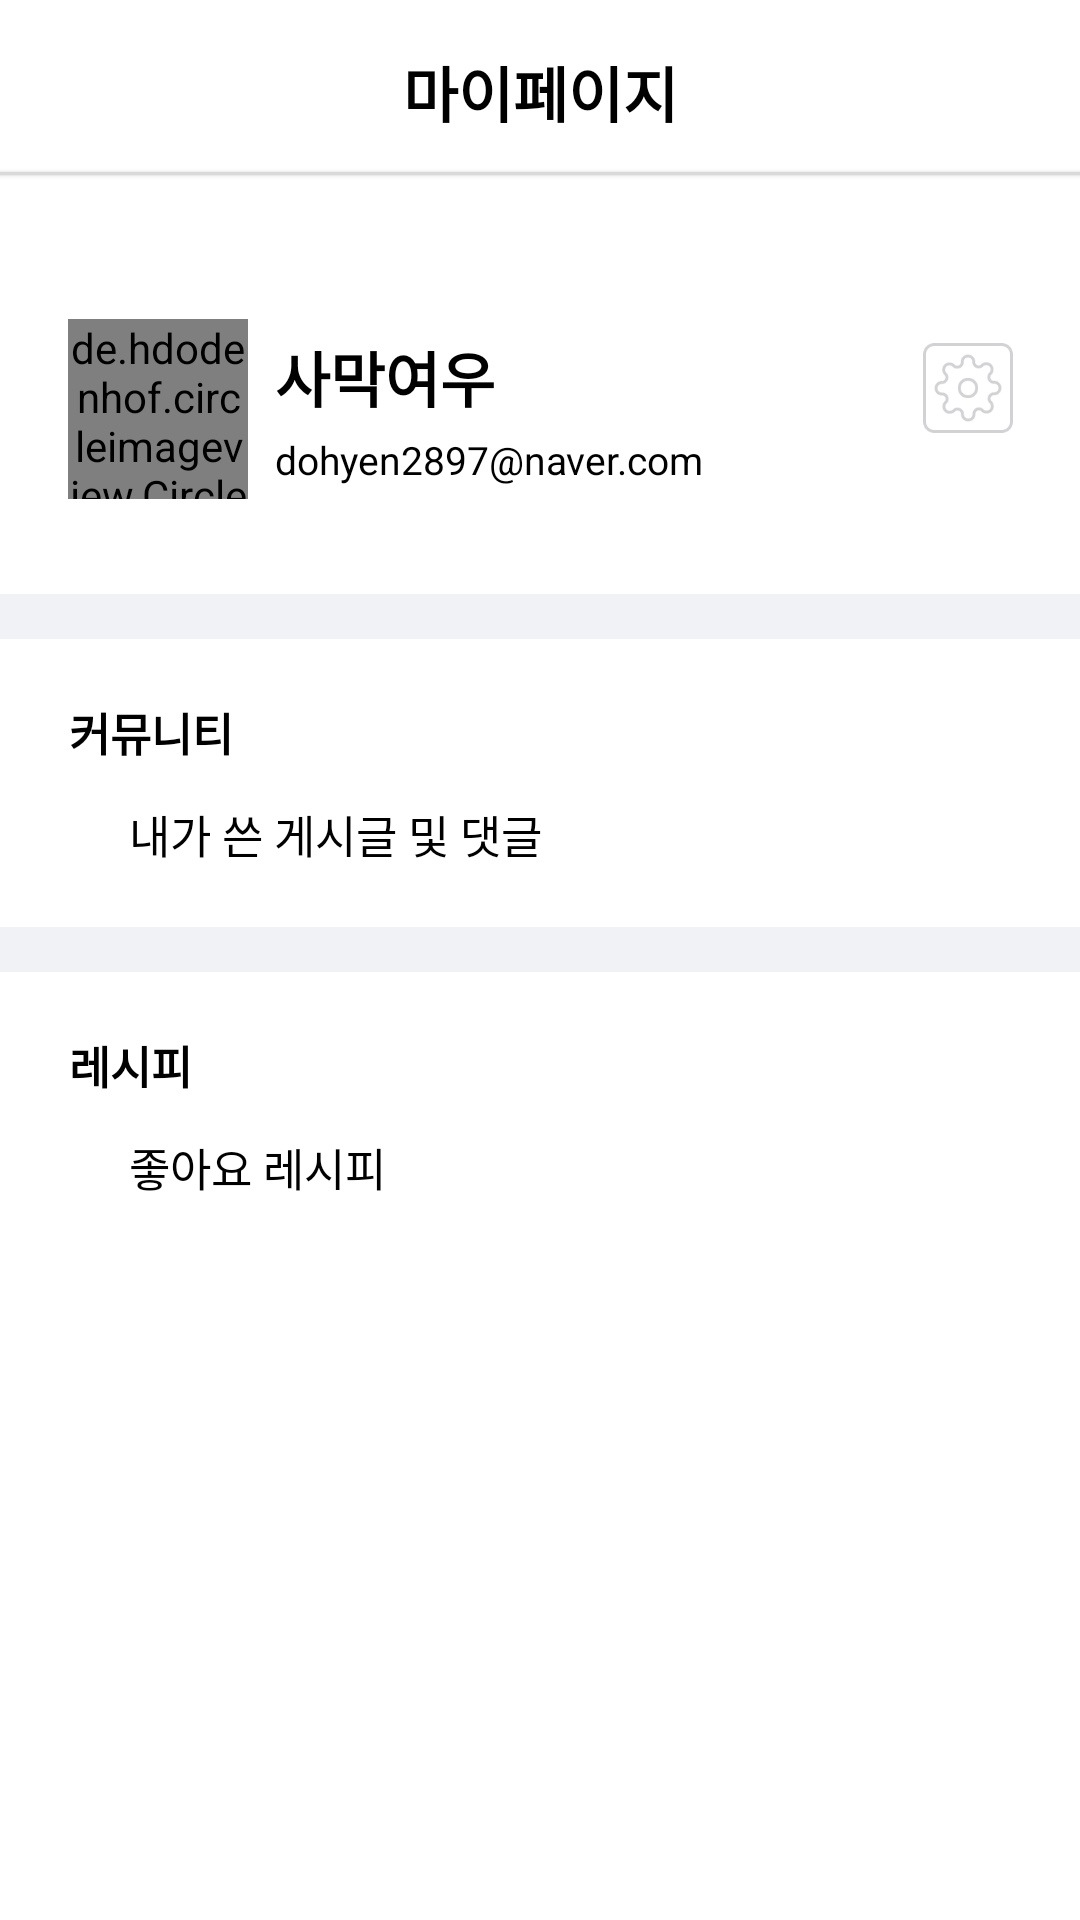

Screen size 1080w x 1920h. Icon name, then its box in pixels as {"x1": x1, "y1": y1, "x2": x2, "y2": y2}:
setting: {"x1": 923, "y1": 343, "x2": 1013, "y2": 433}
